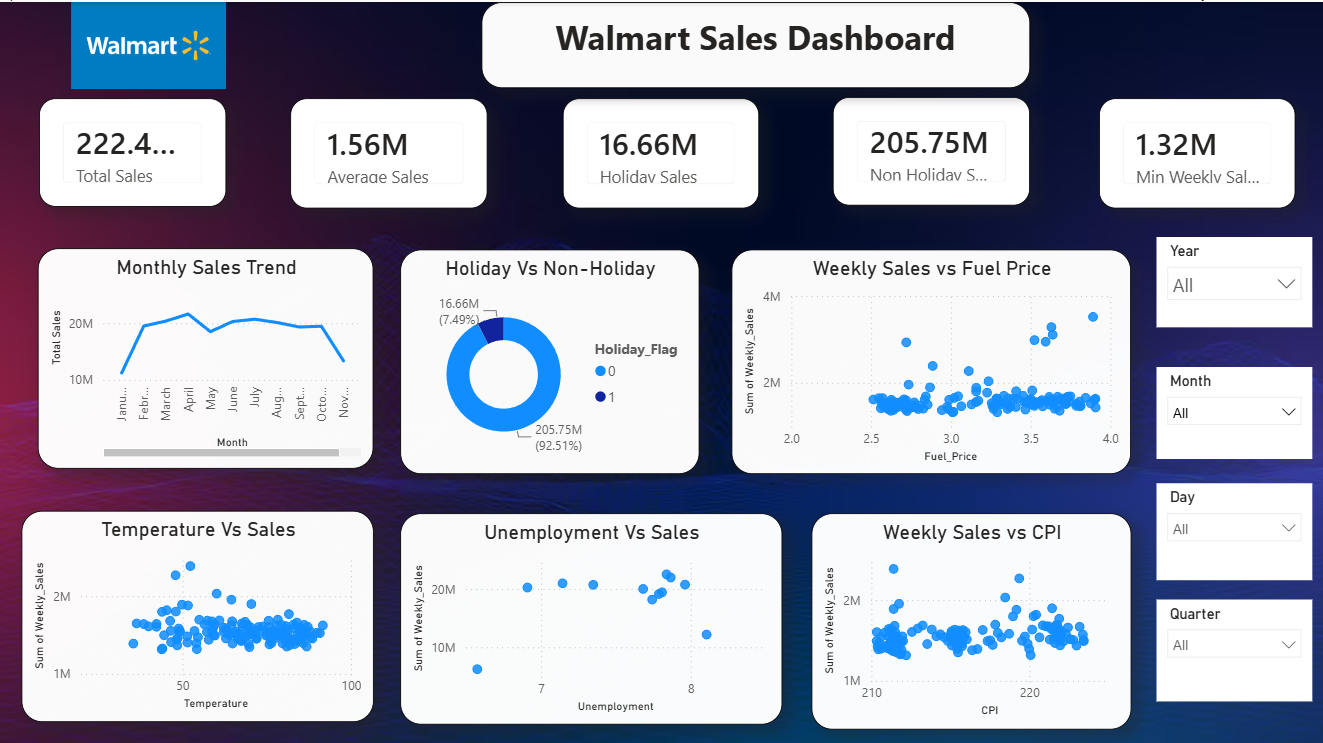

What the dashboard file says about the page in this screenshot:
{"tool":"powerbi","page":{"name":"Page 1","canvas":[1280,720],"ordinal":0},"visuals":[{"type":"cardVisual","fields":{"Data":["Calendar.Total Sales"]},"box":[39.1,92.9,181,105.2],"z":0},{"type":"cardVisual","fields":{"Data":["Calendar.Non Holiday Sales"]},"box":[804.6,91.7,190.8,105],"z":1000},{"type":"cardVisual","fields":{"Data":["Calendar.Average Sales"]},"box":[281.3,92.9,190.8,106.4],"z":2000},{"type":"cardVisual","fields":{"Data":["Calendar.Holiday Sales"]},"box":[544.2,92.9,189.5,106.4],"z":3000},{"type":"cardVisual","fields":{"Data":["Calendar.Min Weekly Sales"]},"box":[1061.4,92.9,189.5,106.4],"z":4000},{"type":"lineChart","title":"Monthly Sales Trend","fields":{"Y":["Calendar.Total Sales"],"Category":["Calendar.Month"]},"box":[37.1,237.1,324.3,212.9],"z":5000},{"type":"donutChart","title":"Holiday Vs Non-Holiday","fields":{"Category":["Walmart_Sales.Holiday_Flag"],"Y":["Calendar.Total Sales"]},"box":[387.1,238.6,288.6,217.1],"z":6000},{"type":"scatterChart","title":"Weekly Sales vs Fuel Price","fields":{"Y":["Sum(Walmart_Sales.Weekly_Sales)"],"X":["Walmart_Sales.Fuel_Price"]},"box":[707.1,238.6,385.7,217.1],"z":7000},{"type":"scatterChart","title":" Temperature Vs Sales","fields":{"Y":["Sum(Walmart_Sales.Weekly_Sales)"],"X":["Walmart_Sales.Temperature"]},"box":[21.4,491.4,340,204.3],"z":8000},{"type":"scatterChart","title":"Weekly Sales vs CPI","fields":{"Y":["Sum(Walmart_Sales.Weekly_Sales)"],"X":["Walmart_Sales.CPI"]},"box":[784.3,492.9,308.6,208.6],"z":9000},{"type":"scatterChart","title":" Unemployment Vs Sales","fields":{"Y":["Sum(Walmart_Sales.Weekly_Sales)"],"X":["Walmart_Sales.Unemployment"]},"box":[387.1,492.9,368.6,204.3],"z":10000},{"type":"group","id":"g1","title":"Group 1","box":[1117.5,226.2,150,448.8],"z":11000},{"type":"slicer","fields":{"Values":["Calendar.Year"]},"box":[1117.5,226.2,150,87.5],"z":11000,"group":"g1"},{"type":"textbox","box":[465.9,0,529.5,83.2],"z":12000},{"type":"slicer","fields":{"Values":["Calendar.Month"]},"box":[1117.5,351.2,150,88.8],"z":12000,"group":"g1"},{"type":"image","box":[68.8,0,151.2,83.8],"z":13000},{"type":"slicer","fields":{"Values":["Calendar.Day"]},"box":[1117.5,463.7,150,93.8],"z":13000,"group":"g1"},{"type":"slicer","fields":{"Values":["Calendar.Quarter"]},"box":[1117.5,576.2,150,98.8],"z":14000,"group":"g1"}]}

Visuals, with their boxes in screenshot pixels (x1, y1, x2, y2), scaled from the page's 1280x720 canvas onto the 1323x743 screenshot:
cardVisual - Calendar.Total Sales: (x1=40, y1=96, x2=227, y2=204)
cardVisual - Calendar.Non Holiday Sales: (x1=832, y1=95, x2=1029, y2=203)
cardVisual - Calendar.Average Sales: (x1=291, y1=96, x2=488, y2=206)
cardVisual - Calendar.Holiday Sales: (x1=562, y1=96, x2=758, y2=206)
cardVisual - Calendar.Min Weekly Sales: (x1=1097, y1=96, x2=1293, y2=206)
"Monthly Sales Trend" lineChart: (x1=38, y1=245, x2=374, y2=464)
"Holiday Vs Non-Holiday" donutChart: (x1=400, y1=246, x2=698, y2=470)
"Weekly Sales vs Fuel Price" scatterChart: (x1=731, y1=246, x2=1130, y2=470)
" Temperature Vs Sales" scatterChart: (x1=22, y1=507, x2=374, y2=718)
"Weekly Sales vs CPI" scatterChart: (x1=811, y1=509, x2=1130, y2=724)
" Unemployment Vs Sales" scatterChart: (x1=400, y1=509, x2=781, y2=719)
"Group 1" group: (x1=1155, y1=233, x2=1310, y2=697)
slicer - Calendar.Year: (x1=1155, y1=233, x2=1310, y2=324)
textbox: (x1=482, y1=0, x2=1029, y2=86)
slicer - Calendar.Month: (x1=1155, y1=362, x2=1310, y2=454)
image: (x1=71, y1=0, x2=227, y2=86)
slicer - Calendar.Day: (x1=1155, y1=479, x2=1310, y2=575)
slicer - Calendar.Quarter: (x1=1155, y1=595, x2=1310, y2=697)
